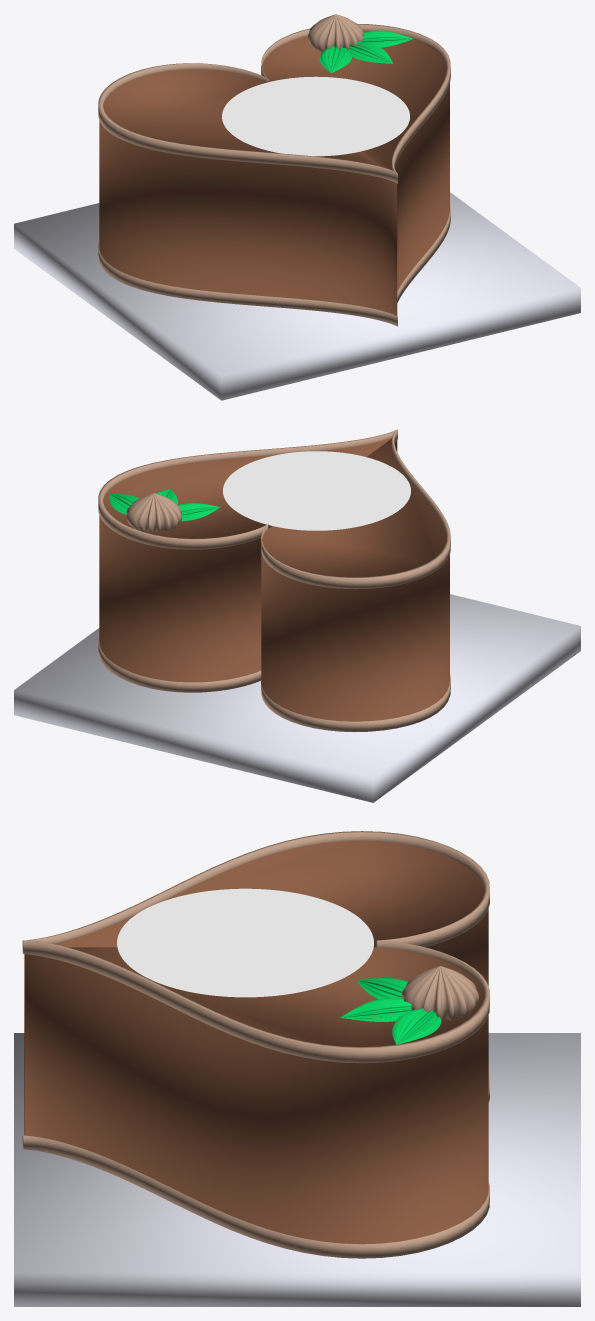
The model's file is heart_chocolate_image.glb.
3 views of the same model, one above another, from view 1: azimuth 30°, elevation 25°; view 2: azimuth 150°, elevation 25°; view 3: azimuth 270°, elevation 25° (orthographic). The views are drawn at different scales.
Parts seen in each view (by area): view 1: HeartCake, IcingStand, CakeTopImage, IcingRing, IcingRing.001, leaf.001, design1; view 2: HeartCake, IcingStand, CakeTopImage, IcingRing, IcingRing.001, design1, leaf.001; view 3: HeartCake, IcingStand, CakeTopImage, IcingRing, IcingRing.001, leaf.001, design1.
Boxes of the visible parts, box(x1,y1,x2,y2) form: HeartCake: box(99, 31, 449, 315); IcingStand: box(14, 192, 580, 400); CakeTopImage: box(222, 76, 409, 156); IcingRing: box(98, 24, 450, 183); IcingRing.001: box(98, 203, 450, 326); leaf.001: box(319, 30, 412, 72); design1: box(307, 14, 364, 52); HeartCake: box(99, 437, 449, 721); IcingStand: box(14, 594, 580, 802); CakeTopImage: box(223, 451, 410, 530); IcingRing: box(98, 429, 450, 589); IcingRing.001: box(98, 637, 450, 732); design1: box(126, 493, 182, 533); leaf.001: box(109, 489, 220, 521); HeartCake: box(24, 840, 488, 1244); IcingStand: box(14, 1033, 580, 1306); CakeTopImage: box(117, 888, 373, 997); IcingRing: box(22, 831, 489, 1063); IcingRing.001: box(22, 1075, 489, 1258); leaf.001: box(340, 978, 441, 1044); design1: box(401, 966, 478, 1020).
Bounding box in the file's own units: 3 × 1.64 × 3.
